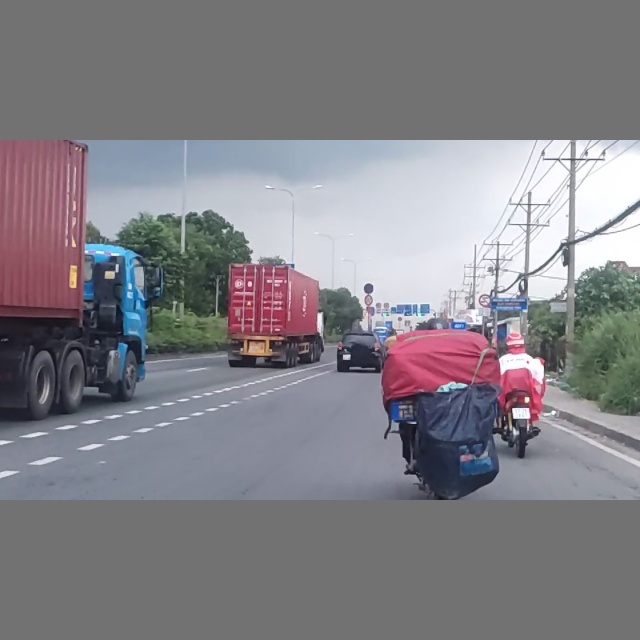P.107: (479, 293, 491, 308)
P.130: (363, 283, 375, 293)
